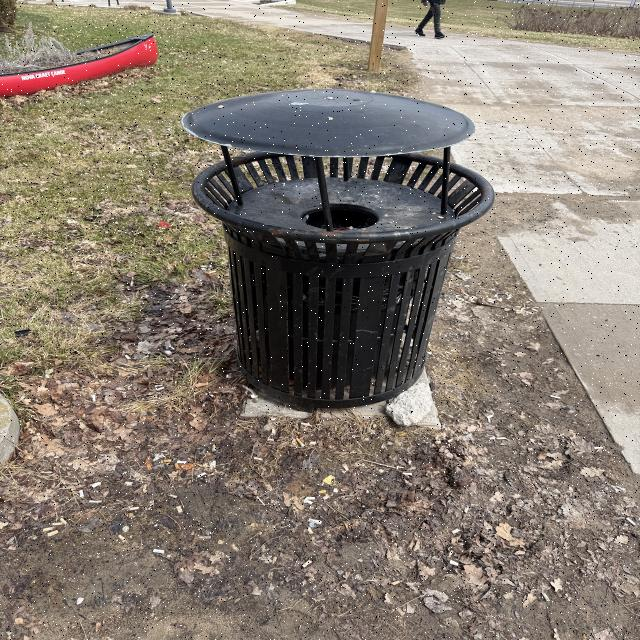Dustbin: (182, 95, 500, 412)
